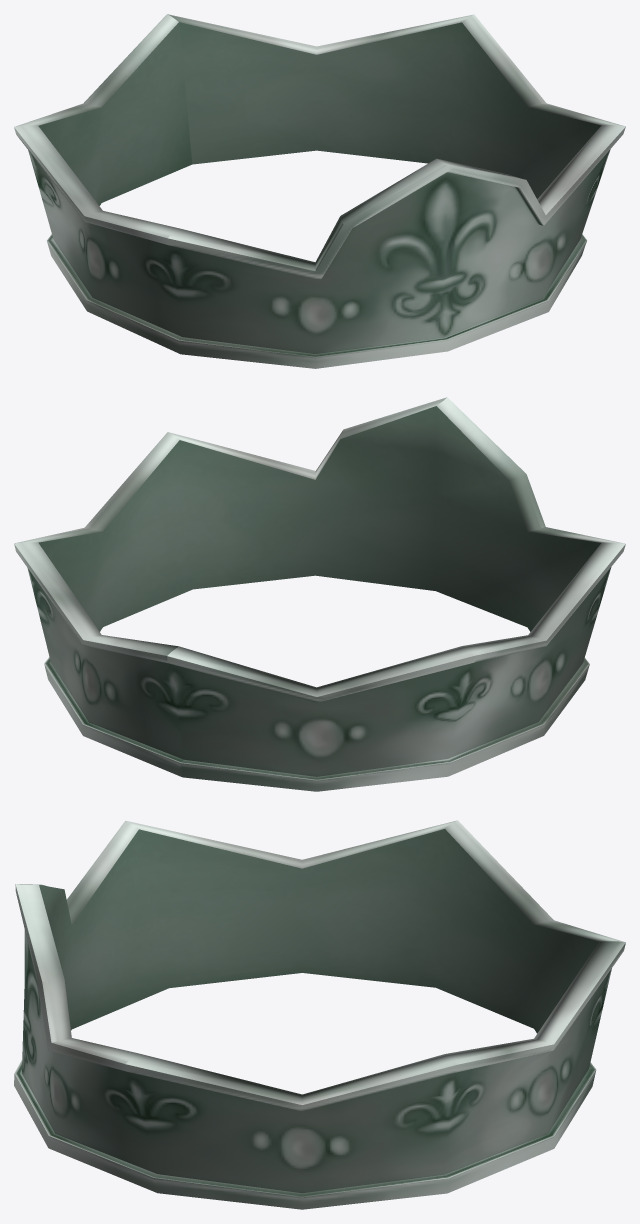
Rendered from corona_0019.fbx.
3 views of the same model, one above another, from view 1: azimuth 30°, elevation 25°; view 2: azimuth 150°, elevation 25°; view 3: azimuth 270°, elevation 25° (orthographic). The views are drawn at different scales.
Parts seen in each view (by area): view 1: corona_0019; view 2: corona_0019; view 3: corona_0019.
Part boxes in pixels (<box>): corona_0019: <box>14,14,625,368</box>; corona_0019: <box>14,397,625,791</box>; corona_0019: <box>14,820,625,1209</box>.
Size of the model in its own units: 16.11 by 6.21 by 16.96.
